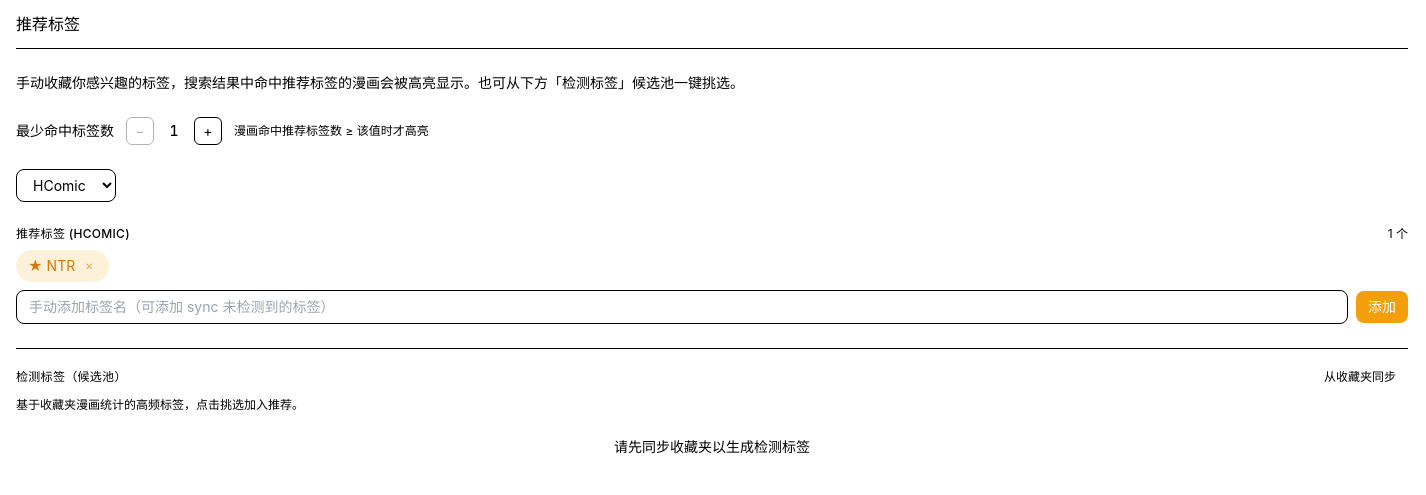
Test: FavouriteTagSettings - 推荐标签 / 检测标签双区 › 手动输入与已推荐重复时显示去重提示
Type "NTR" into the field with placeholder "手动添加标签名（可添加 sync 未检测到的标签）" at (682, 307), box [16, 290, 1348, 324]
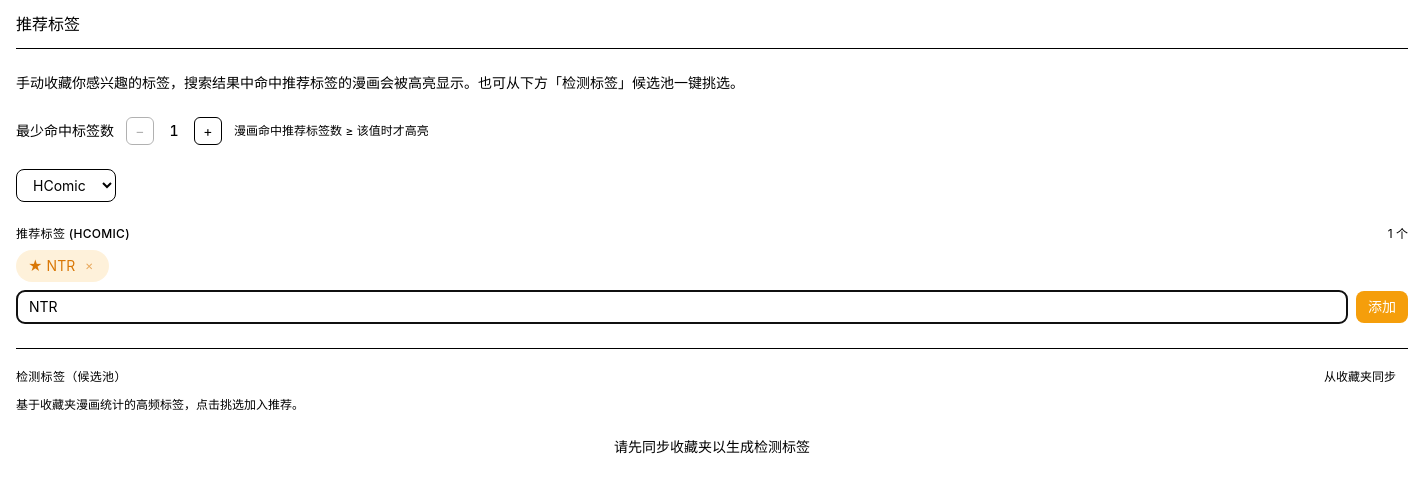
Click the button "添加" at (1382, 307), box [1356, 291, 1408, 323]
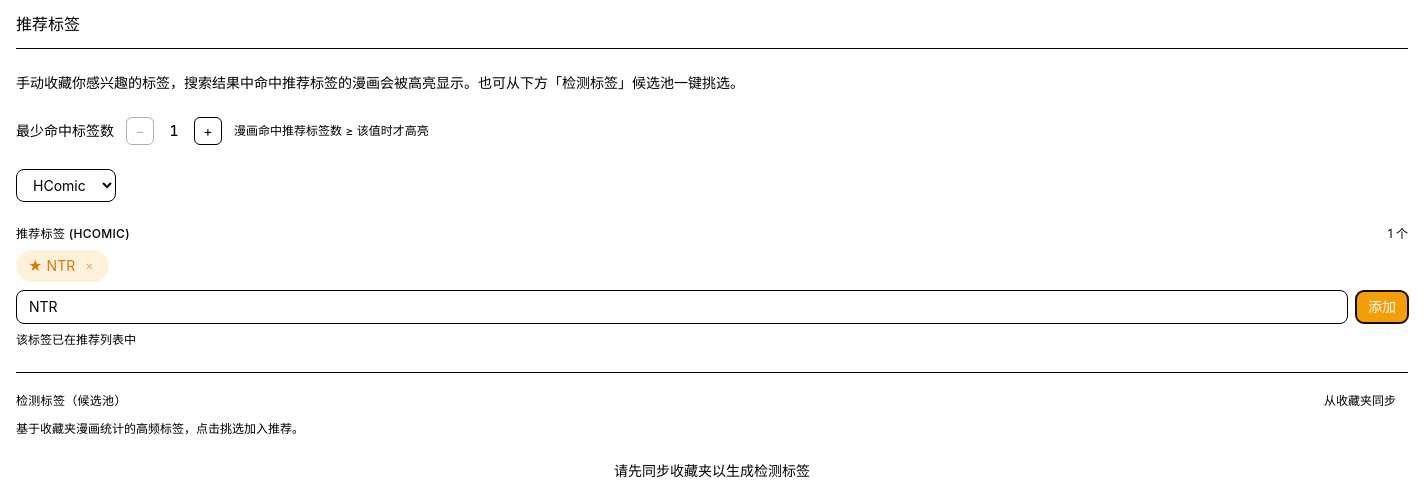
expect the text "该标签已在推荐列表中" is shown: met, box [16, 332, 136, 347]
